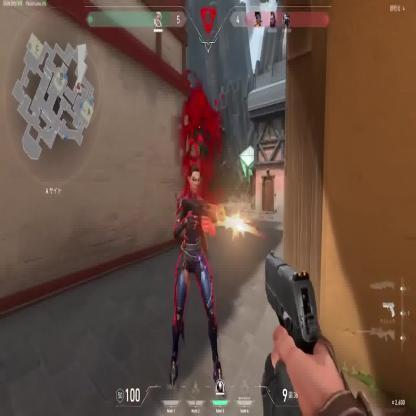enemy: (168, 163, 223, 386)
enemy_head: (186, 166, 201, 198)
